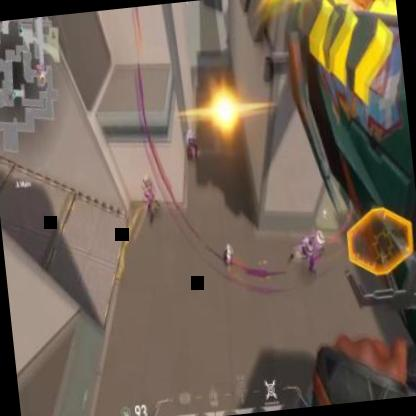enemy: (284, 231, 330, 280), (138, 171, 162, 226), (182, 124, 199, 162)
enemy_head: (312, 232, 326, 250), (186, 126, 192, 136), (144, 172, 149, 182)
